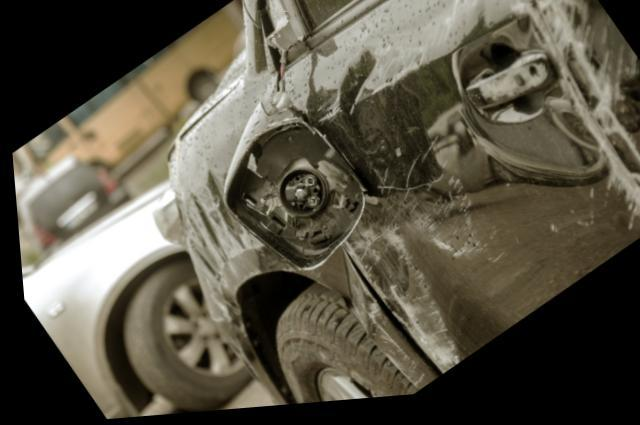dent: (340, 48, 478, 264), (469, 114, 596, 181)
scratch: (509, 7, 640, 244), (534, 0, 640, 202), (341, 229, 455, 380), (349, 275, 414, 390), (472, 60, 545, 112)
